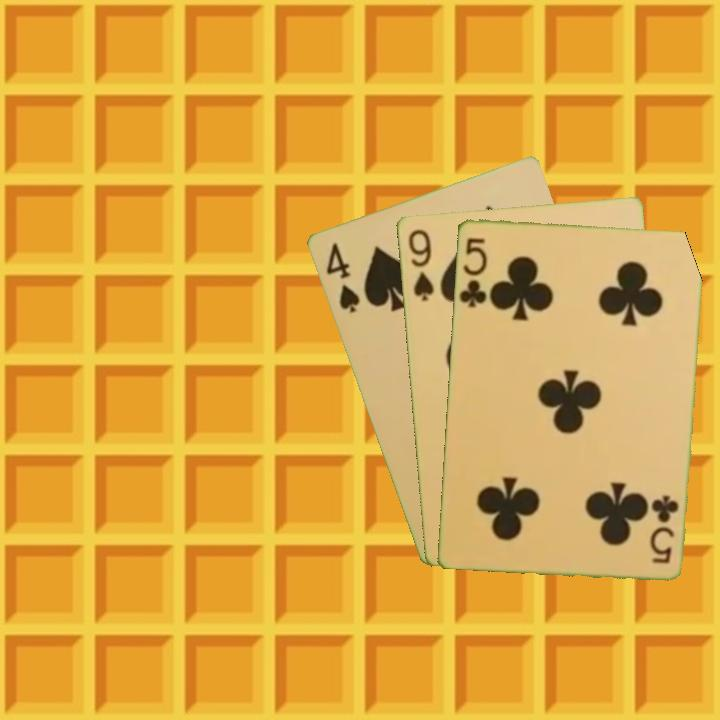4s: (322, 238, 363, 316)
5c: (647, 491, 682, 566), (456, 233, 490, 310)
9s: (404, 225, 437, 303)
